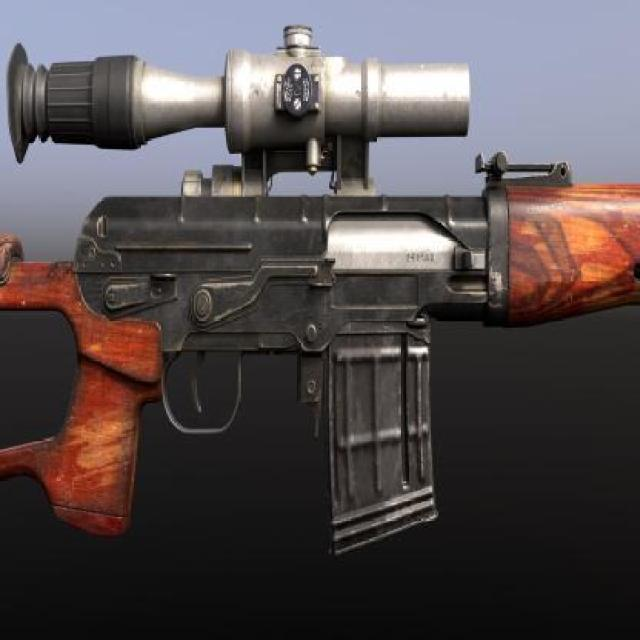weapon: (0, 24, 640, 585)
